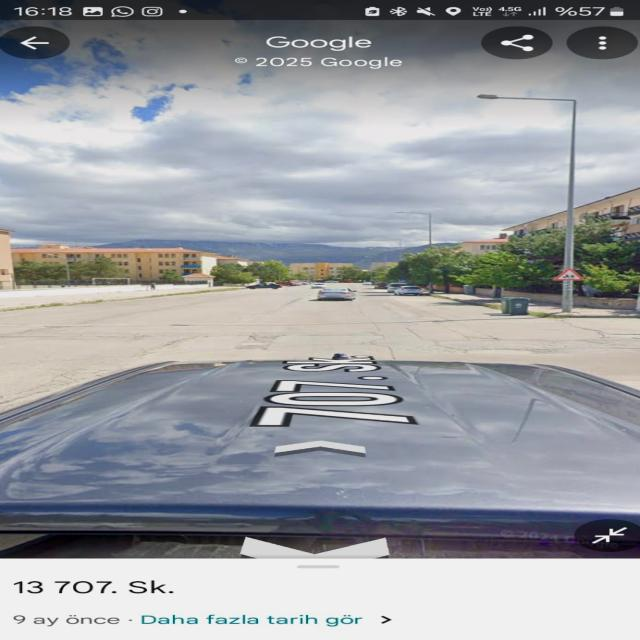okul_gecidi: (553, 268, 585, 280)
